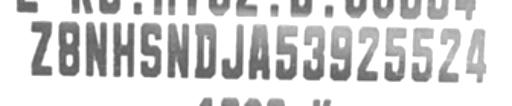letter: (270, 19, 304, 83), (24, 16, 58, 79), (80, 16, 112, 82), (462, 24, 496, 84), (163, 19, 193, 83), (244, 19, 274, 83), (381, 21, 411, 85), (436, 22, 466, 84), (326, 23, 356, 83), (408, 21, 436, 85), (192, 19, 220, 81), (136, 19, 164, 81), (300, 21, 328, 83), (355, 23, 383, 83), (56, 16, 82, 80), (110, 16, 136, 80), (220, 19, 246, 81)
